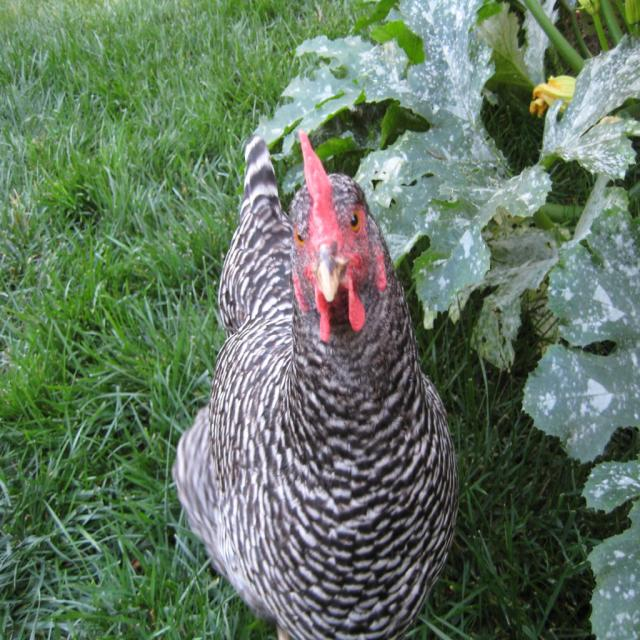Chicken: (190, 126, 452, 640)
